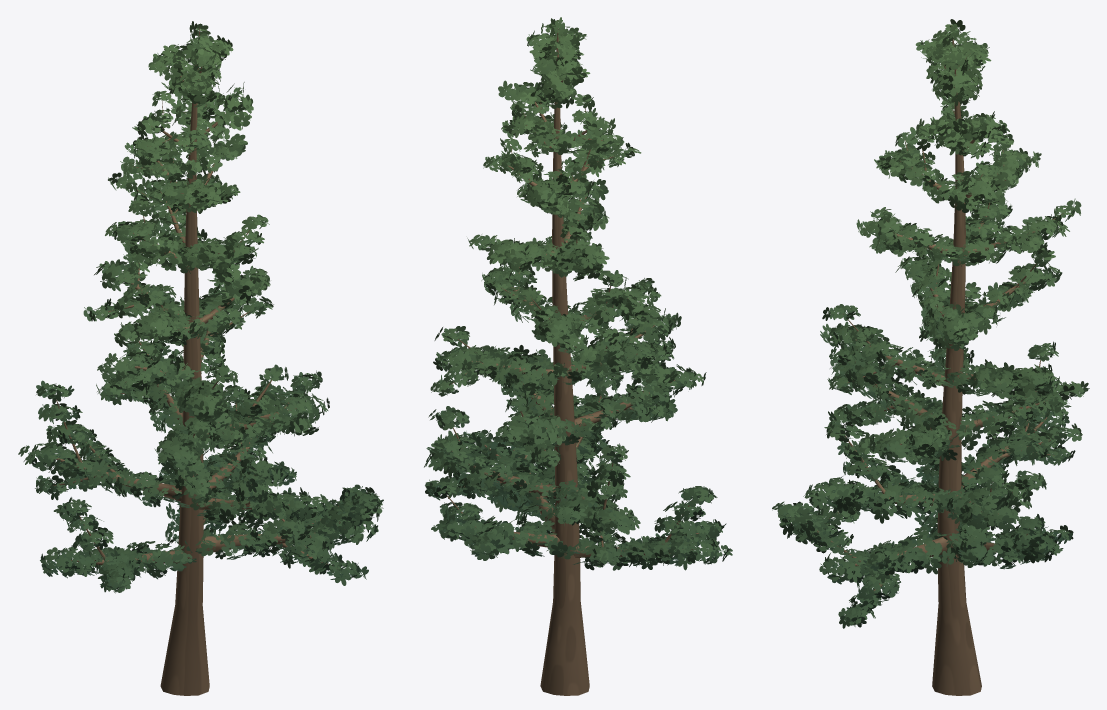
Rendered from tree.gltf.
3 renders of one model, left to right at view 1: azimuth 30°, elevation 25°; view 2: azimuth 150°, elevation 25°; view 3: azimuth 270°, elevation 25°, orthographic.
Parts seen in each view (by area): view 1: Tree_LOD0; view 2: Tree_LOD0; view 3: Tree_LOD0.
Part boxes in pixels (box(x1,y1,x2,y2)): Tree_LOD0: box(18, 21, 383, 695); Tree_LOD0: box(424, 17, 732, 695); Tree_LOD0: box(772, 19, 1089, 695).
Bounding box in the file's own units: 11.03 × 23.35 × 10.22.
Materials: 2 (2 with a texture image).
